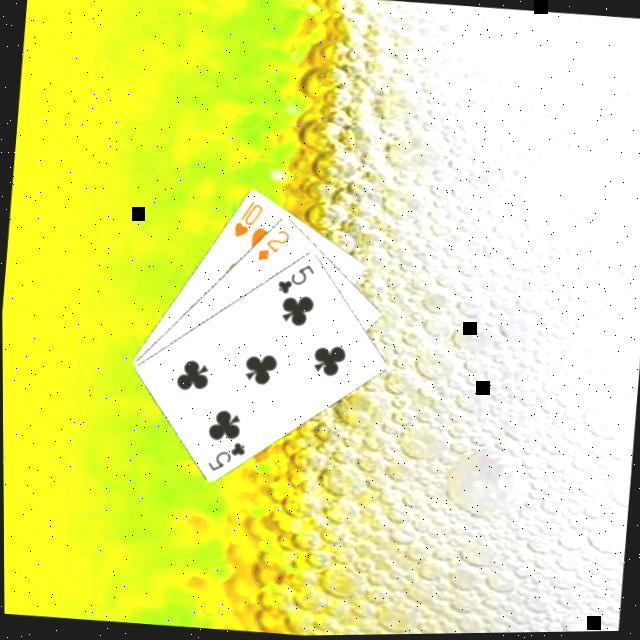10H: (231, 194, 269, 241)
2D: (254, 223, 294, 264)
5C: (274, 256, 319, 298), (205, 434, 250, 476)
